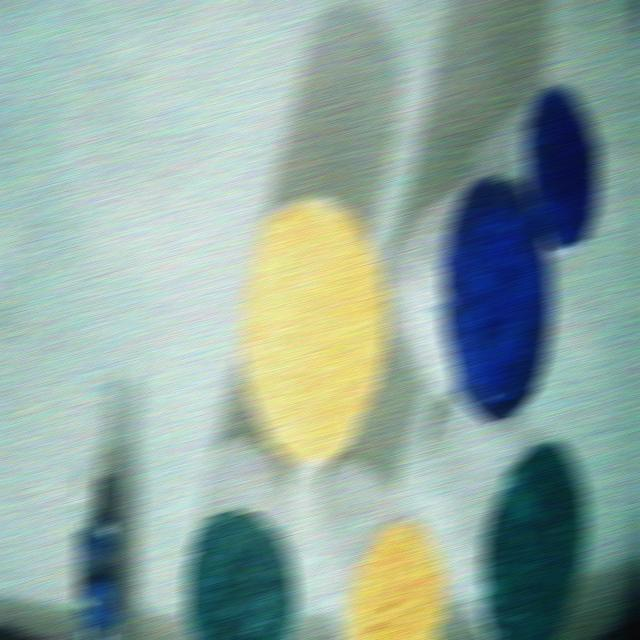blue: (440, 177, 553, 421), (525, 88, 600, 248)
green: (482, 440, 587, 639), (186, 512, 297, 639)
yellow: (239, 199, 388, 463), (345, 522, 446, 639)
